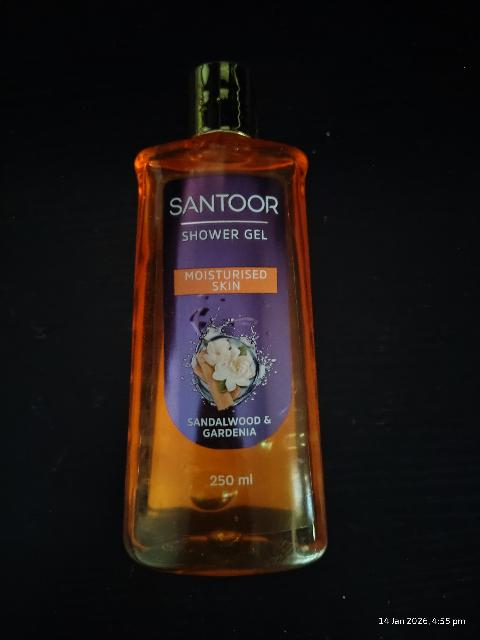santoor bodywash: (128, 42, 334, 572)
